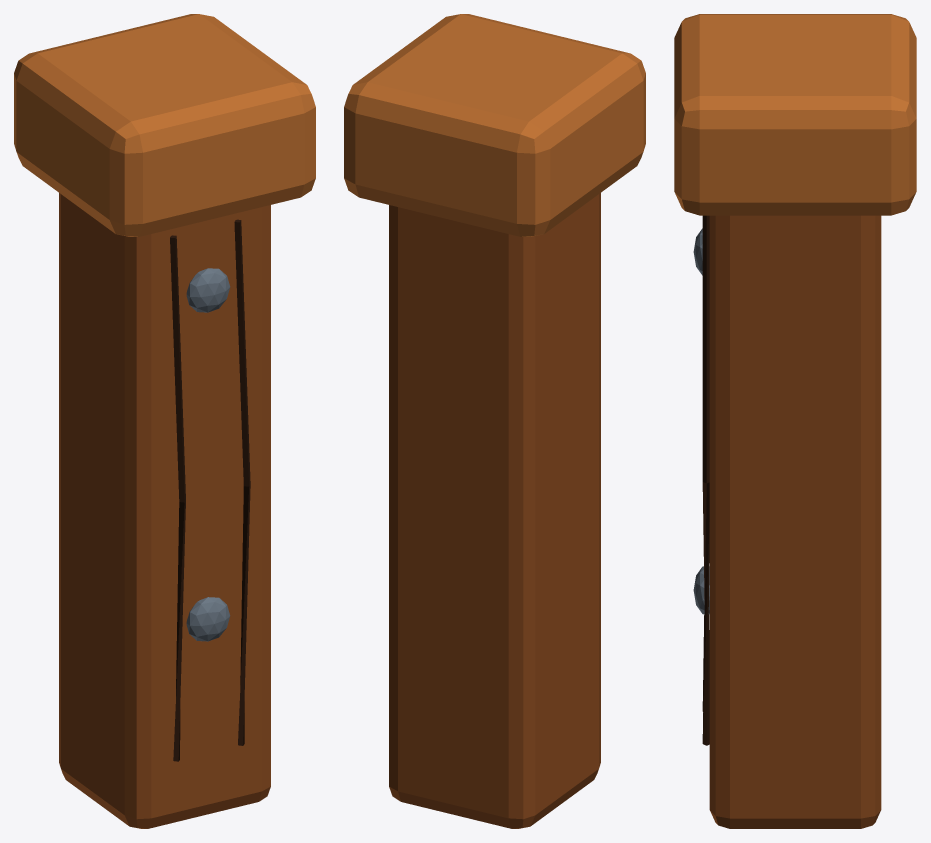
The model's file is forest_bridge_post.glb.
3 renders of one model, left to right at view 1: azimuth 30°, elevation 25°; view 2: azimuth 150°, elevation 25°; view 3: azimuth 270°, elevation 25°, orthographic. The views are drawn at different scales.
Parts seen in each view (by area): view 1: Bridge rail upright, Bridge post cap, Bridge post fine grain.001, Bridge post fine grain, Bridge post iron peg.001, Bridge post iron peg; view 2: Bridge rail upright, Bridge post cap; view 3: Bridge rail upright, Bridge post cap, Bridge post fine grain.001, Bridge post iron peg.
Boxes of the visible parts, <box> form: Bridge rail upright: <box>59,193,270,828</box>; Bridge post cap: <box>14,14,315,236</box>; Bridge post fine grain.001: <box>234,219,250,745</box>; Bridge post fine grain: <box>170,235,185,761</box>; Bridge post iron peg.001: <box>186,268,230,312</box>; Bridge post iron peg: <box>186,597,230,641</box>; Bridge rail upright: <box>389,193,600,828</box>; Bridge post cap: <box>344,14,645,236</box>; Bridge rail upright: <box>709,215,881,828</box>; Bridge post cap: <box>674,14,916,215</box>; Bridge post fine grain.001: <box>702,215,709,745</box>; Bridge post iron peg: <box>693,566,709,614</box>.
Size of the model in its own units: 0.24 by 0.815 by 0.24.
